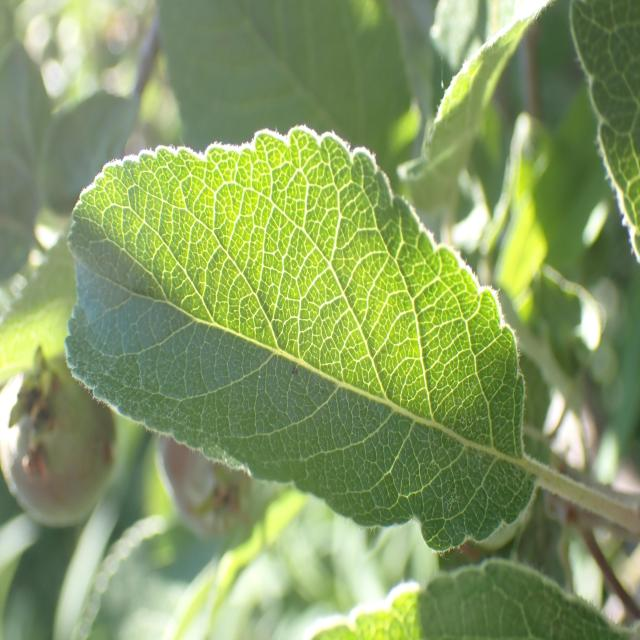healthy: (66, 124, 534, 552), (311, 558, 636, 640), (569, 0, 640, 265)
